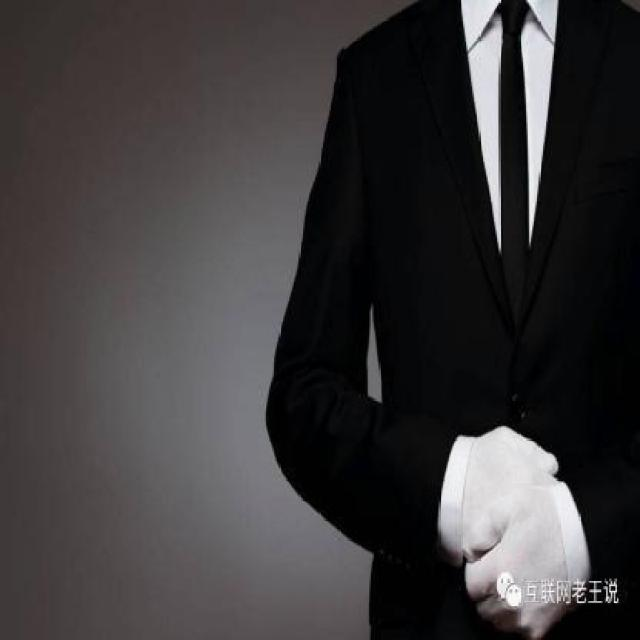hand_noglove: (458, 490, 571, 636), (463, 427, 569, 562)
